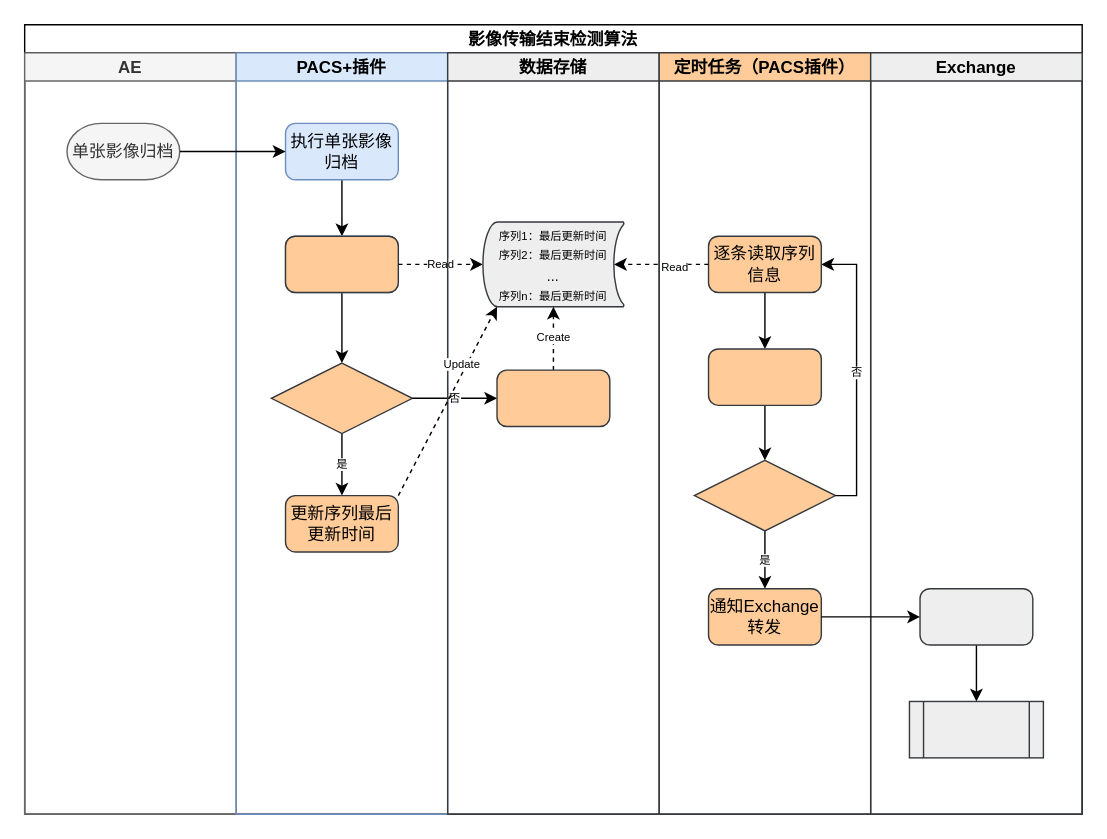
This 1107x839 diagram has some shape labels left out. Here are the shapes that lost their labels. From the top down, the centre of each, then its label:
At pixel 341 264: "读取影像序列信息".
At pixel 764 376: "计算(now-最后更新时间)".
At pixel 341 398: "序列存在？".
At pixel 553 398: "写入序列+最后更新时间".
At pixel 764 495: "大于2分钟？".
At pixel 976 616: "接收转发消息".
At pixel 975 729: "执行转发".
